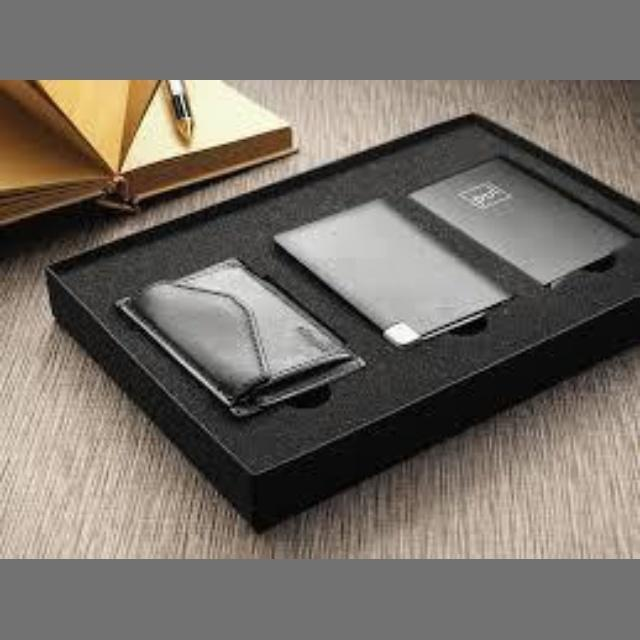Wallet: (108, 253, 324, 412)
